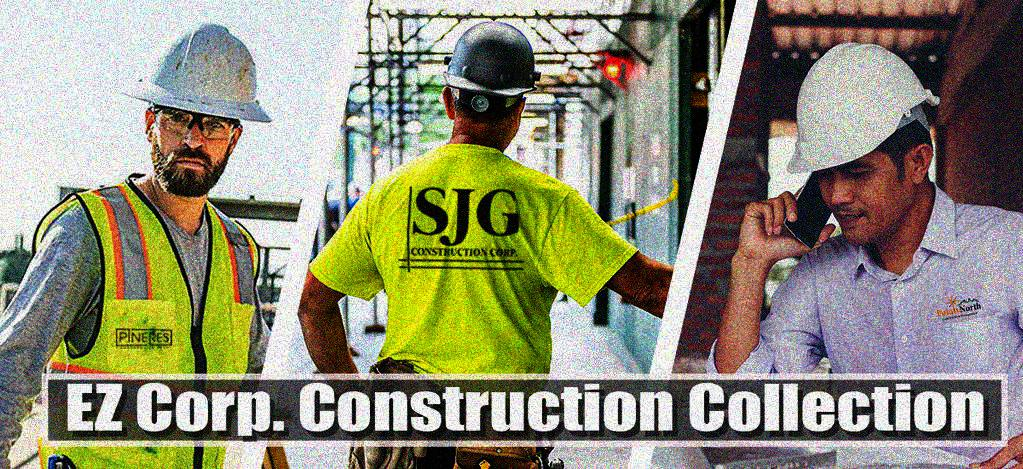helmet: (786, 37, 945, 254), (121, 21, 275, 199), (436, 18, 543, 154)
